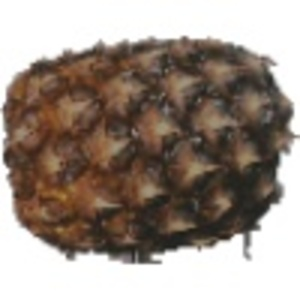abacaxi: (2, 34, 296, 252)
